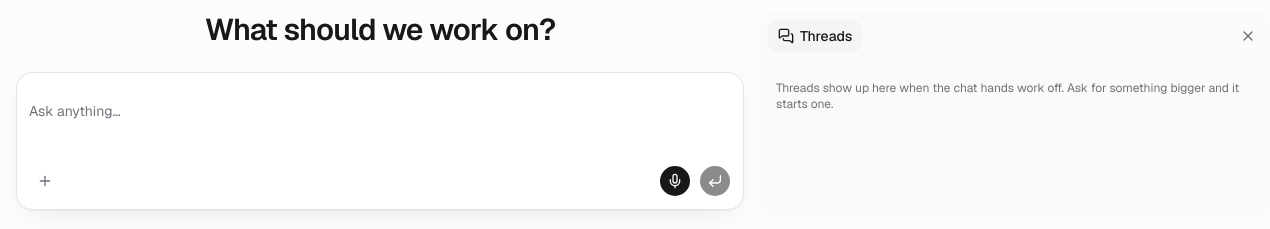
Test case: Stop › stops the answer streaming now, without an error
This screenshot has width=1270, height=229.
Type "Clean up my contacts" into the text box named "Message" at (380, 125), box left=17, top=93, right=743, bottom=157
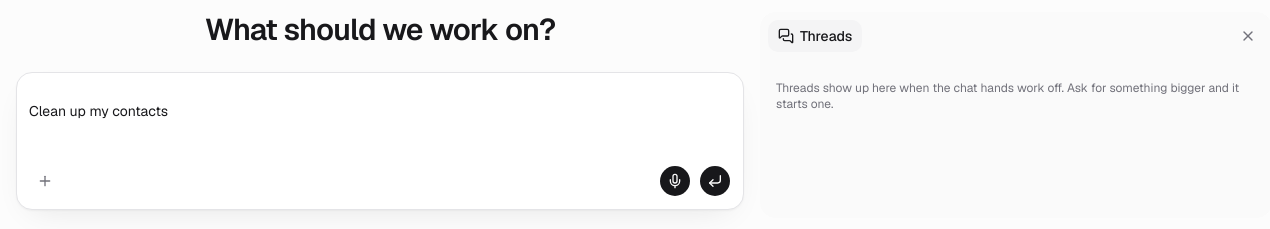
Click the button named "Submit" at (715, 181), box left=699, top=165, right=731, bottom=197
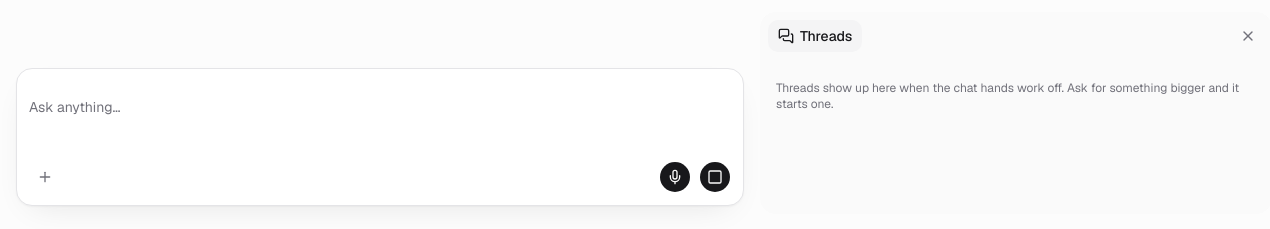
Click the button named "Stop" at (715, 177), box left=699, top=161, right=731, bottom=193
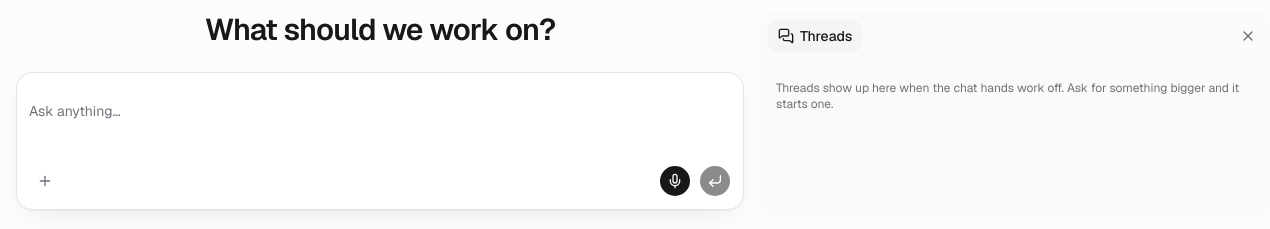
Check: the button named "Submit" is shown, box left=699, top=165, right=731, bottom=197
